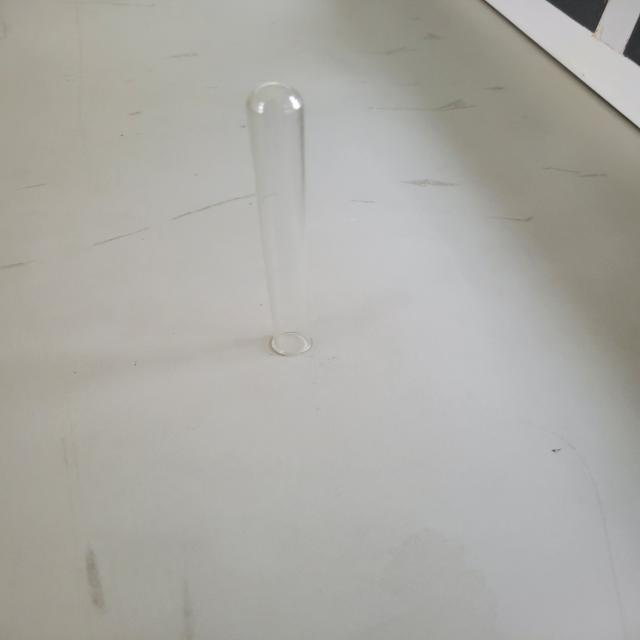Test_Tube: (210, 51, 402, 403)
